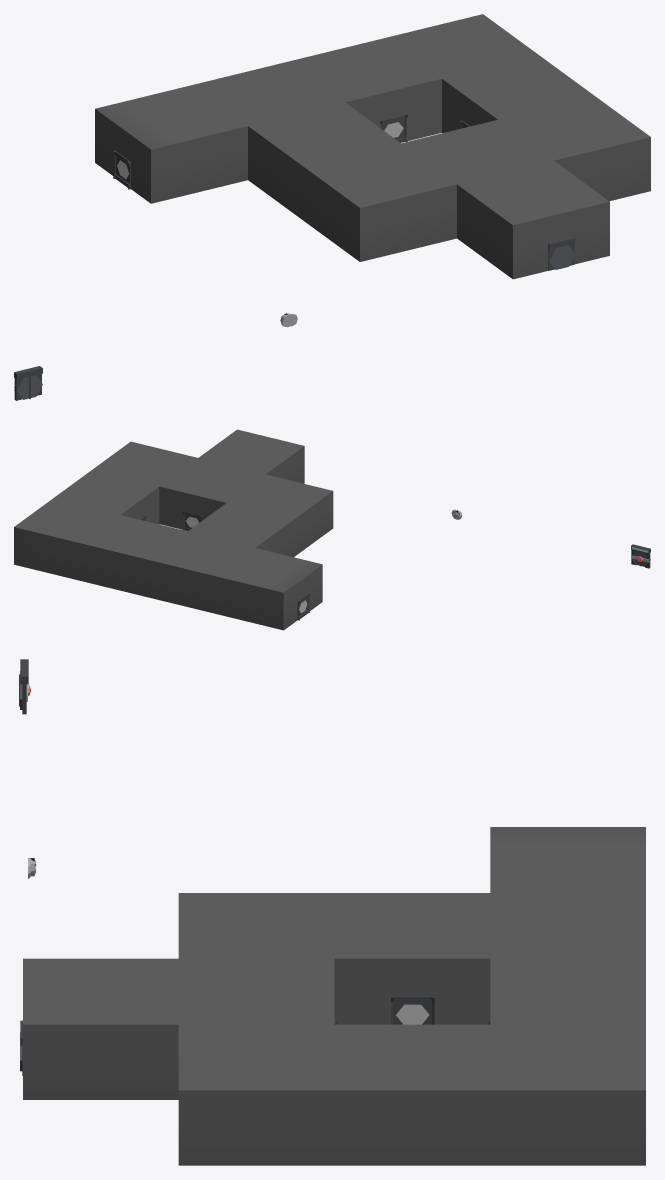
The model's file is scene_Exclude_.fbx.
The picture shows the model from 3 angles, top to bottom: view 1: azimuth 30°, elevation 25°; view 2: azimuth 150°, elevation 25°; view 3: azimuth 270°, elevation 25°; orthographic projection. The views are drawn at different scales.
Parts seen in each view (by area): view 1: Cube.001; view 2: Cube.001; view 3: Cube.001, Wall/Window.4.
Boxes of the visible parts, box(x1,y1,x2,y2) form: Cube.001: box(95, 14, 650, 279); Cube.001: box(14, 429, 333, 630); Cube.001: box(23, 827, 645, 1165); Wall/Window.4: box(391, 996, 434, 1024).
Size of the model in its own units: 10687 by 6037 by 810.
10 materials, 2 textured.
